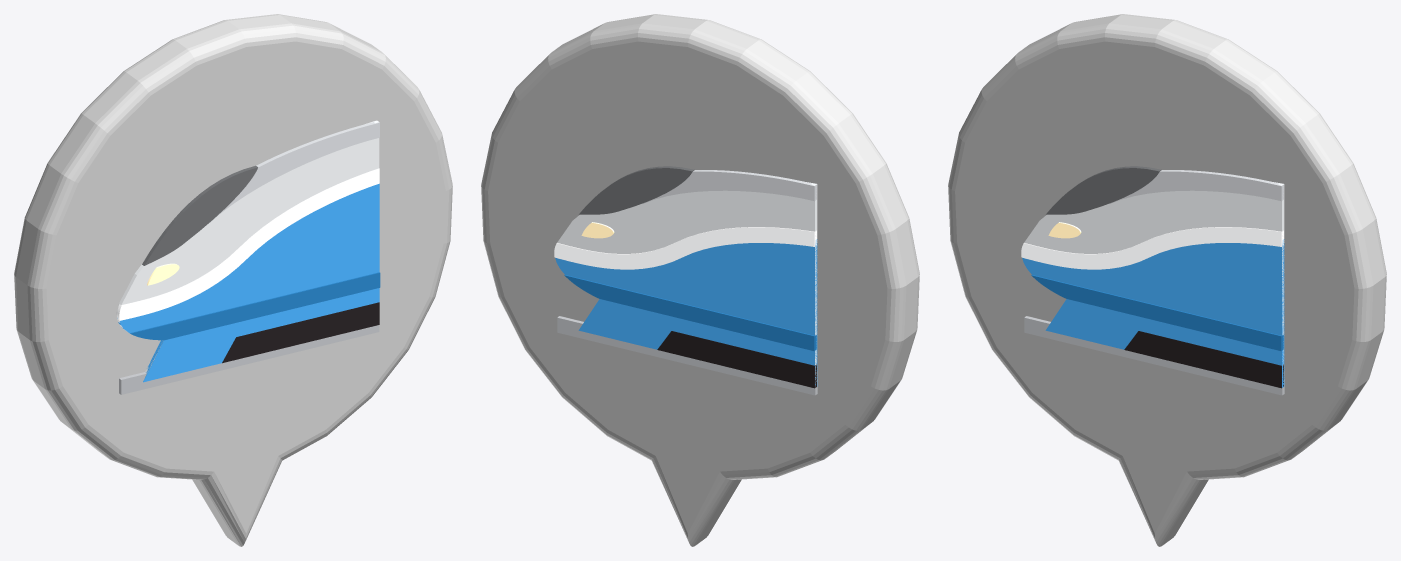
File: bullettrain_side.glb
3 renders of one model, left to right at view 1: azimuth 30°, elevation 25°; view 2: azimuth 150°, elevation 25°; view 3: azimuth 330°, elevation 25°, orthographic.
Parts seen in each view (by area): view 1: EmotionBubble; view 2: EmotionBubble; view 3: EmotionBubble.
Boxes of the visible parts, bbox=[...] form: EmotionBubble: bbox=[14, 14, 452, 546]; EmotionBubble: bbox=[481, 14, 919, 546]; EmotionBubble: bbox=[948, 14, 1386, 546].
Bounding box in the file's own units: 5.29 × 6.16 × 0.718.
